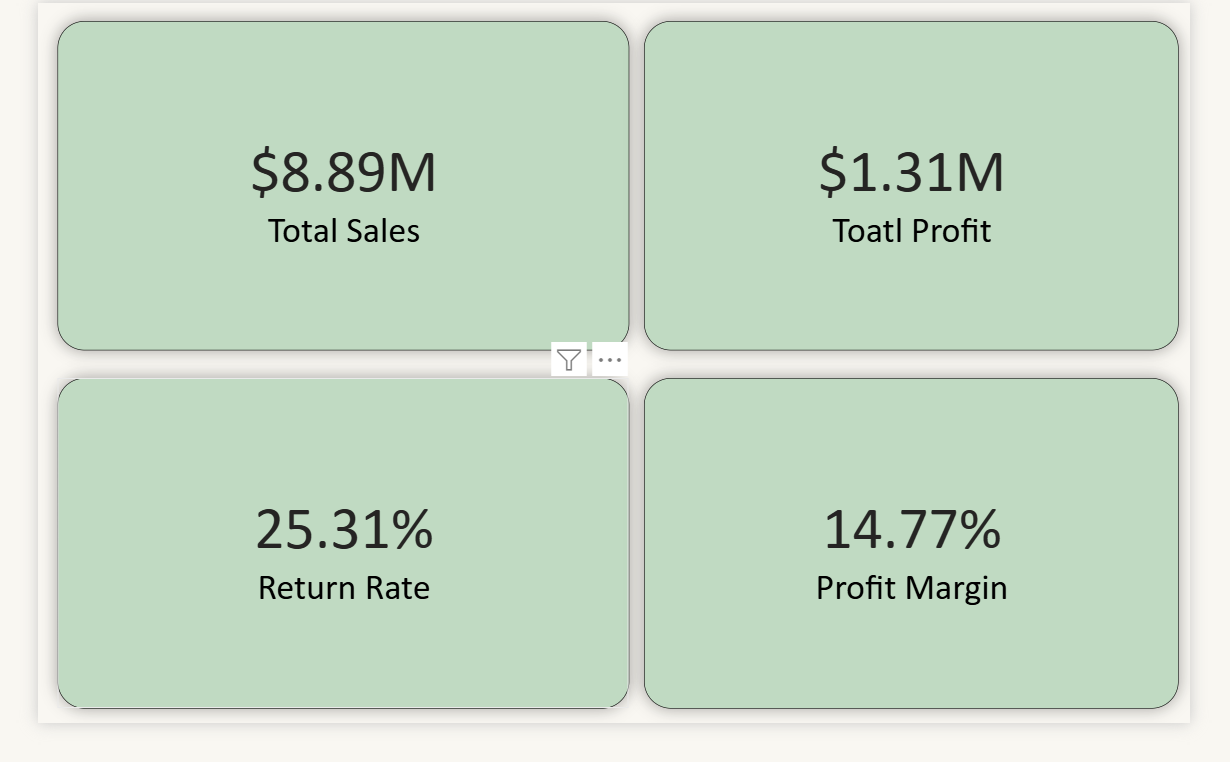

What the dashboard file says about the page in this screenshot:
{"tool":"powerbi","page":{"name":"KPI","canvas":[1280,800],"ordinal":0},"visuals":[{"type":"card","title":"Total Sales","fields":{"Values":["Orders.Total_Sales"]},"box":[21.3,19.8,635.4,365.7],"z":0},{"type":"card","title":"Total Sales","fields":{"Values":["Orders.Return Rate %"]},"box":[21.3,416,635.4,367.2],"z":1000},{"type":"card","title":"Total Sales","fields":{"Values":["Sum(Orders.Profit)"]},"box":[673.5,19.8,594.3,365.7],"z":2000},{"type":"card","title":"Total Sales","fields":{"Values":["Orders.Profit Margin %"]},"box":[673.5,416,594.3,367.2],"z":3000}]}

Visuals, with their boxes in screenshot pixels (x1, y1, x2, y2), scaled from the page's 1280x800 canvas onto the 1230x762 screenshot:
"Total Sales" card: pyautogui.locateOnScreen(20, 19, 631, 367)
"Total Sales" card: pyautogui.locateOnScreen(20, 396, 631, 746)
"Total Sales" card: pyautogui.locateOnScreen(647, 19, 1218, 367)
"Total Sales" card: pyautogui.locateOnScreen(647, 396, 1218, 746)
